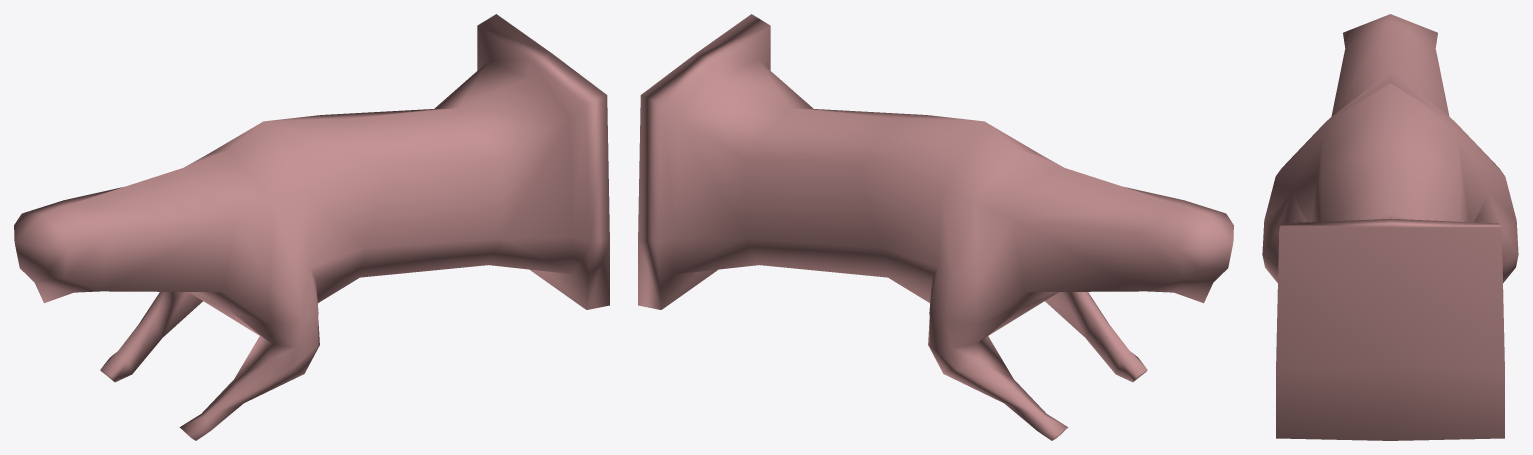
File: Statue_09_Lod1.fbx
3 views of the same model, side by side, from view 1: azimuth 30°, elevation 25°; view 2: azimuth 150°, elevation 25°; view 3: azimuth 270°, elevation 25° (orthographic).
Visible parts, largest first — view 1: Statue_09_Lod1; view 2: Statue_09_Lod1; view 3: Statue_09_Lod1.
Part boxes in pixels (x1=…): Statue_09_Lod1: x1=14, y1=14, x2=609, y2=440; Statue_09_Lod1: x1=638, y1=14, x2=1233, y2=440; Statue_09_Lod1: x1=1262, y1=14, x2=1518, y2=440.
Bounding box in the file's own units: 222 × 103 × 90.94.
